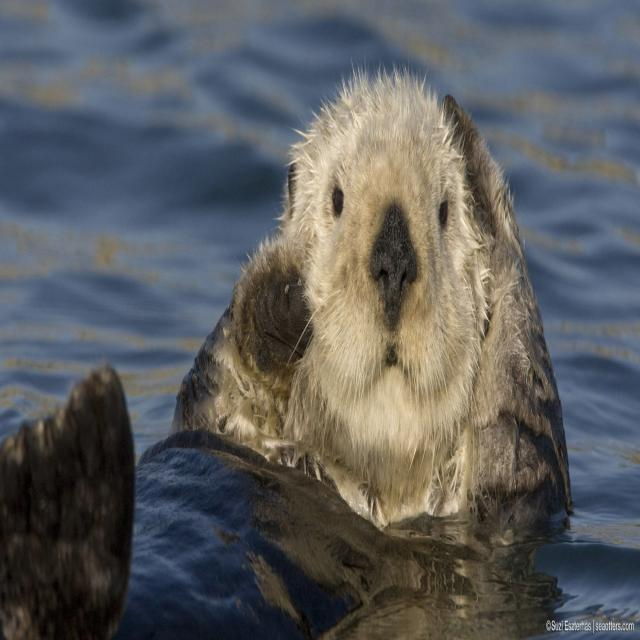otter: (171, 71, 571, 525)
